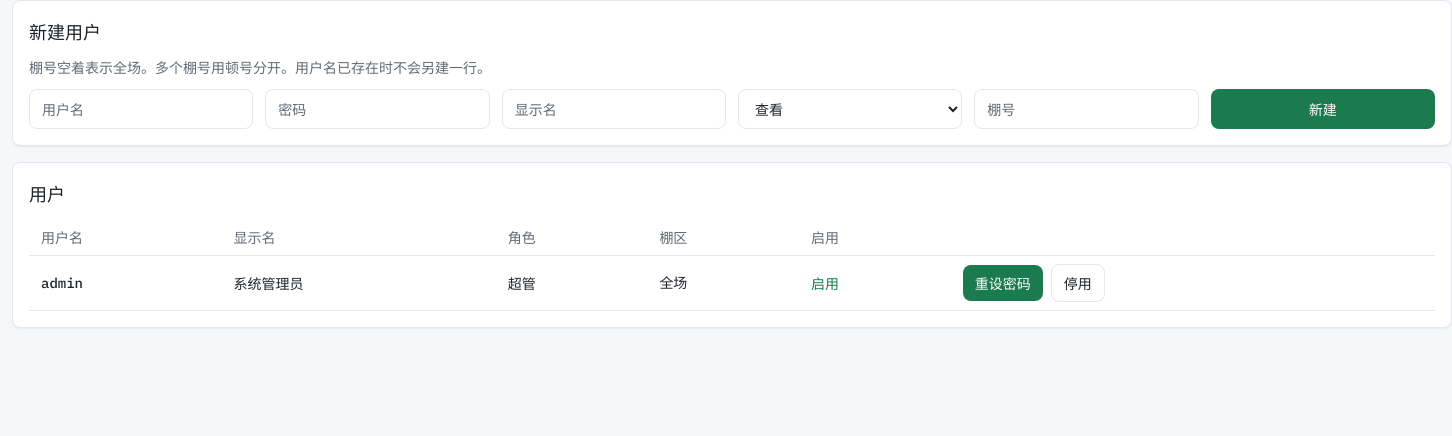
UsersView › creates a user with the POST fields and shows the new row without the password
Type "user-create-demo" into the field named "用户名".
click(141, 109); type("user-create-demo")  # box [29,89,253,129]
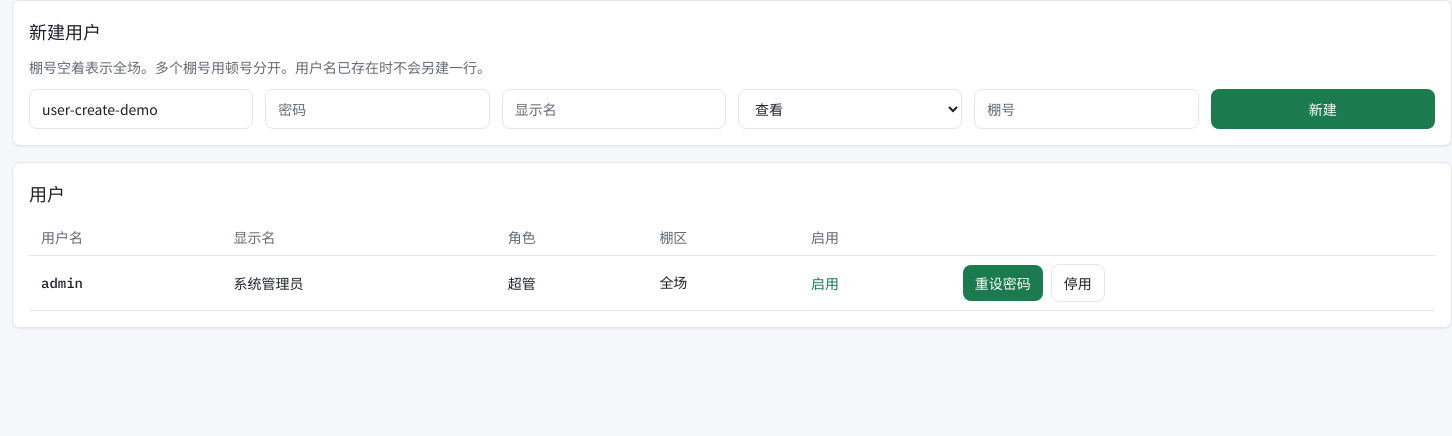
Type "Create@123456" into the password field named "密码".
click(377, 109); type("Create@123456")  # box [265,89,490,129]
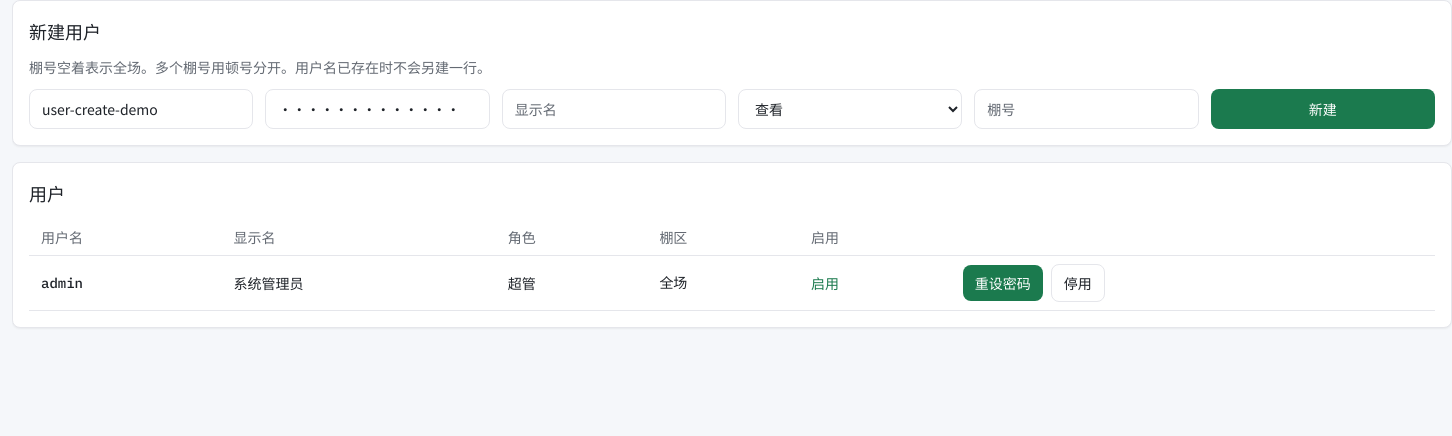
Type "新建演示" into the field named "显示名".
click(614, 109); type("新建演示")  # box [502,89,726,129]
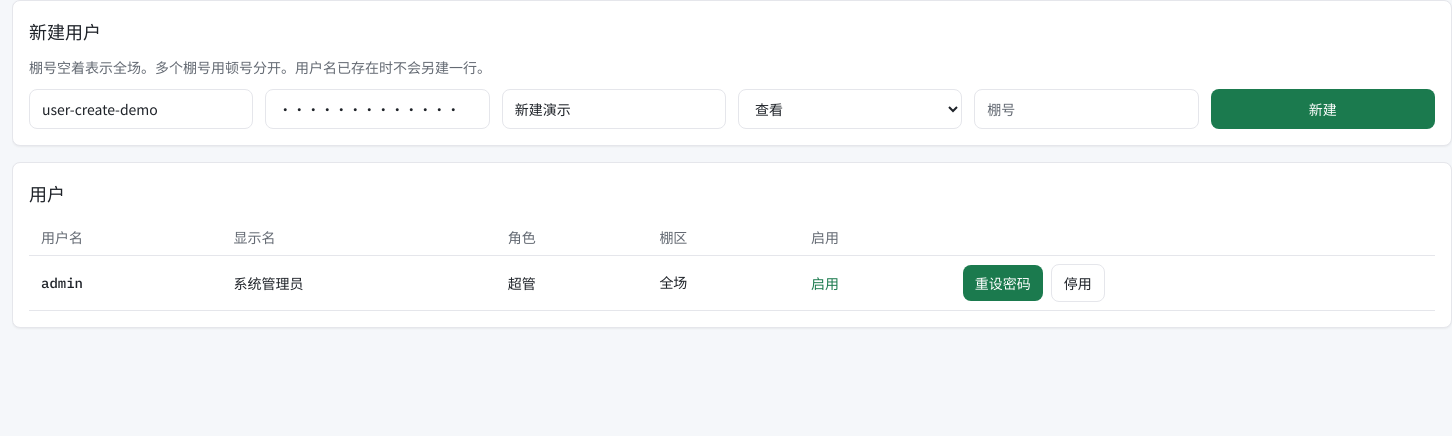
Select "查看" in the dropdown named "角色" at (850, 109), box [738,89,962,129]
Type "S01、S02" into the field named "棚号".
click(1086, 109); type("S01、S02")  # box [974,89,1199,129]
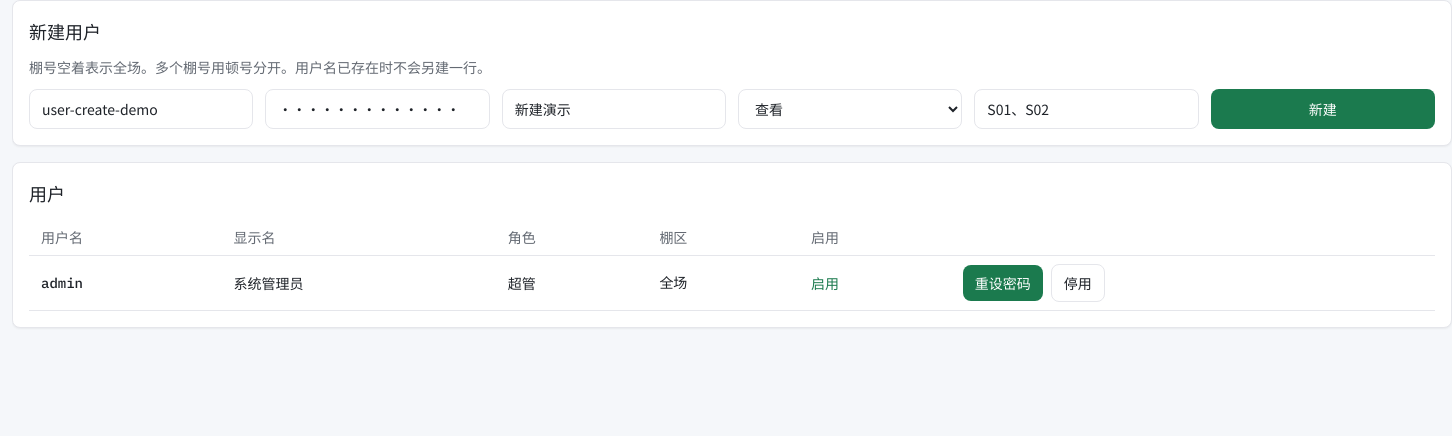
Submit the form with test id "user-create-form", box [12,0,1451,146]
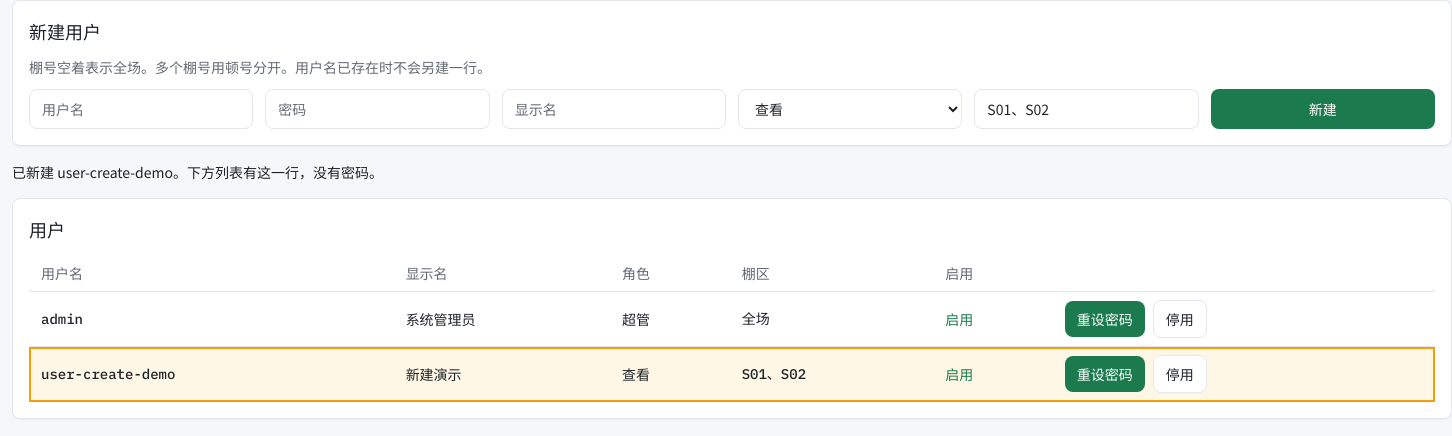
Check: the text "user-create-demo" is shown, box [12,162,383,182]
Check: the text "新建演示" is shown, box [394,346,610,402]
Check: the text "S01、S02" is shown, box [730,346,933,402]
